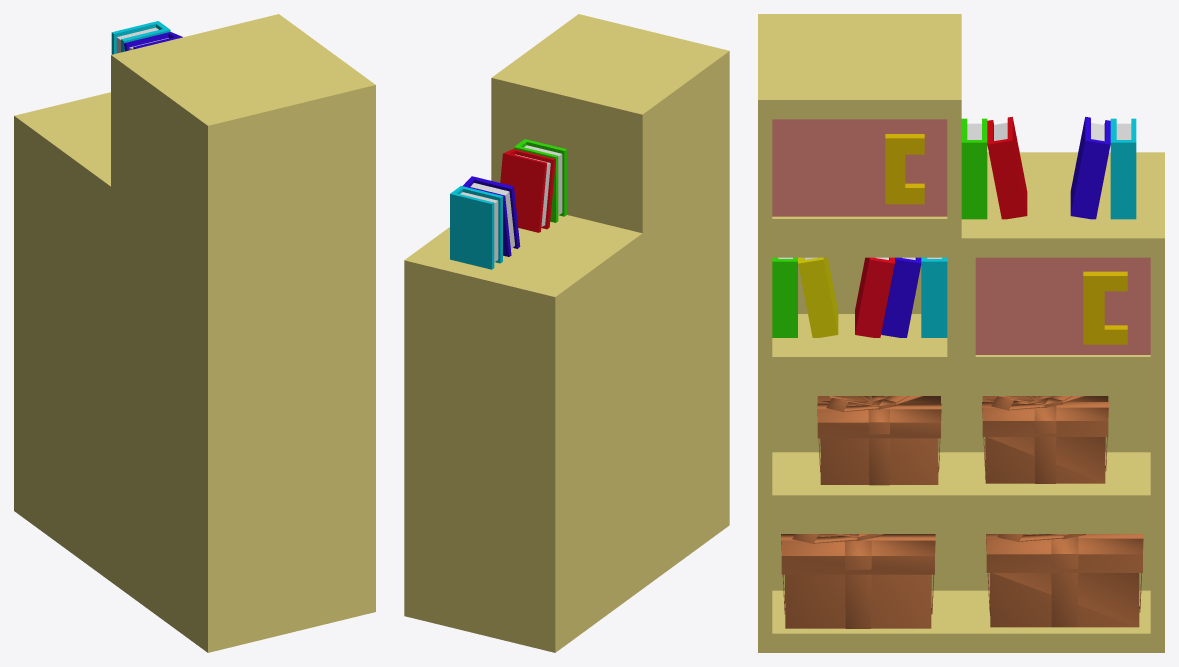
The model's file is shkafdrygou.fbx.
3 views of the same model, side by side, from view 1: azimuth 30°, elevation 25°; view 2: azimuth 150°, elevation 25°; view 3: azimuth 270°, elevation 25° (orthographic). The views are drawn at different scales.
Visible parts, largest first — view 1: Cube, Cube.001; view 2: Cube, Cube.001; view 3: Cube, Cube.007, Cube.001.
Part boxes in pixels (bbox=[...]): Cube: bbox=[14, 14, 375, 652]; Cube.001: bbox=[111, 21, 182, 54]; Cube: bbox=[404, 14, 729, 652]; Cube.001: bbox=[450, 139, 566, 269]; Cube: bbox=[758, 14, 1164, 652]; Cube.007: bbox=[772, 257, 947, 337]; Cube.001: bbox=[961, 116, 1136, 219].
Bounding box in the file's own units: 205 × 600 × 400.
25 materials, 4 textured.
